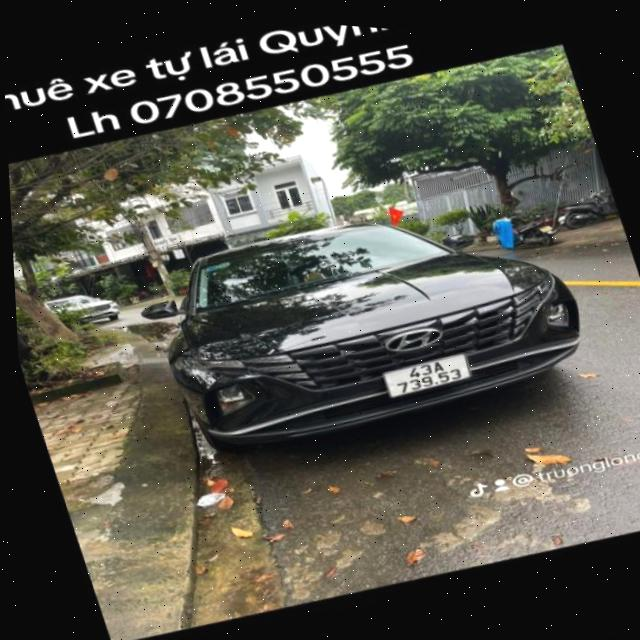car: (121, 148, 615, 509), (0, 0, 577, 214)
plate: (373, 340, 483, 411)
